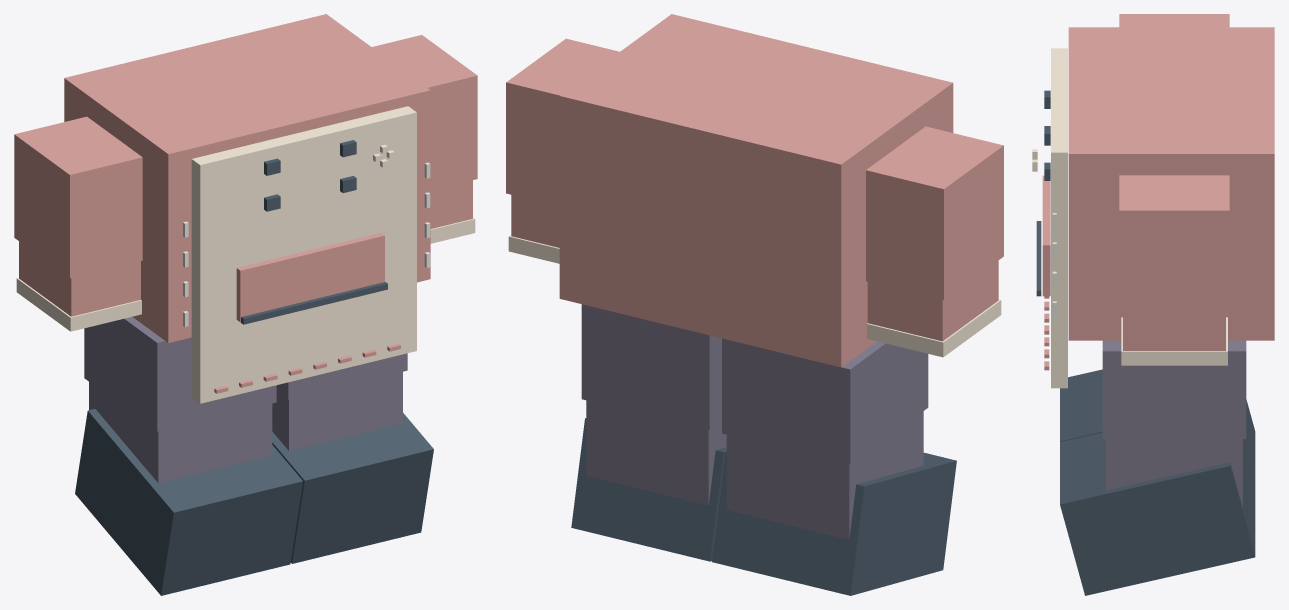
File: chef-coral.glb
The picture shows the model from 3 angles, left to right: view 1: azimuth 30°, elevation 25°; view 2: azimuth 150°, elevation 25°; view 3: azimuth 270°, elevation 25°; orthographic projection. The views are drawn at different scales.
Parts seen in each view (by area): view 1: apron, jacket, shoe-Right, upper-sleeve-Right, shoe-Left, trouser-Right, lower-trouser-Right, upper-sleeve-Left, apron-pocket, lower-trouser-Left, lower-sleeve-Right, trouser-Left (+4 smaller); view 2: jacket, upper-sleeve-Right, trouser-Right, shoe-Right, trouser-Left, lower-trouser-Right, lower-trouser-Left, upper-sleeve-Left, shoe-Left, lower-sleeve-Right, cuff-Right, lower-sleeve-Left (+1 smaller); view 3: jacket, shoe-Left, upper-sleeve-Left, trouser-Left, apron, lower-trouser-Left, lower-sleeve-Left, shoe-Right, cuff-Left, upper-sleeve-Right, apron-pocket, design-chef-apron-pocket-binding.
Boxes of the visible parts, box(x1,y1,x2,y2) form: apron: box(191, 106, 416, 403); jacket: box(64, 14, 430, 342); shoe-Right: box(75, 409, 302, 595); upper-sleeve-Right: box(14, 116, 142, 278); shoe-Left: box(272, 413, 433, 563); trouser-Right: box(84, 317, 276, 431); lower-trouser-Right: box(89, 382, 272, 482); upper-sleeve-Left: box(372, 35, 477, 190); apron-pocket: box(236, 233, 384, 322); lower-trouser-Left: box(272, 372, 402, 451); lower-sleeve-Right: box(19, 241, 140, 316); trouser-Left: box(276, 353, 407, 399); jacket: box(559, 14, 953, 367); upper-sleeve-Right: box(866, 126, 1003, 300); trouser-Right: box(722, 338, 928, 464); shoe-Right: box(712, 452, 956, 595); trouser-Left: box(581, 304, 721, 430); lower-trouser-Right: box(726, 411, 923, 539); lower-trouser-Left: box(586, 400, 726, 505); upper-sleeve-Left: box(506, 38, 619, 206); shoe-Left: box(571, 418, 726, 561); lower-sleeve-Right: box(867, 260, 998, 341); cuff-Right: box(867, 299, 1001, 357); lower-sleeve-Left: box(511, 195, 559, 247); jacket: box(1068, 27, 1274, 340); shoe-Left: box(1060, 432, 1255, 595); upper-sleeve-Left: box(1119, 175, 1229, 312); trouser-Left: box(1102, 340, 1246, 438); apron: box(1051, 48, 1067, 388); lower-trouser-Left: box(1106, 439, 1242, 507); lower-sleeve-Left: box(1123, 312, 1225, 350); shoe-Right: box(1060, 369, 1255, 493); cuff-Left: box(1121, 317, 1227, 365); upper-sleeve-Right: box(1119, 14, 1229, 27); apron-pocket: box(1042, 175, 1050, 296); design-chef-apron-pocket-binding: box(1036, 221, 1041, 296).
Size of the model in its own units: 1.07 by 1.13 by 0.559.
